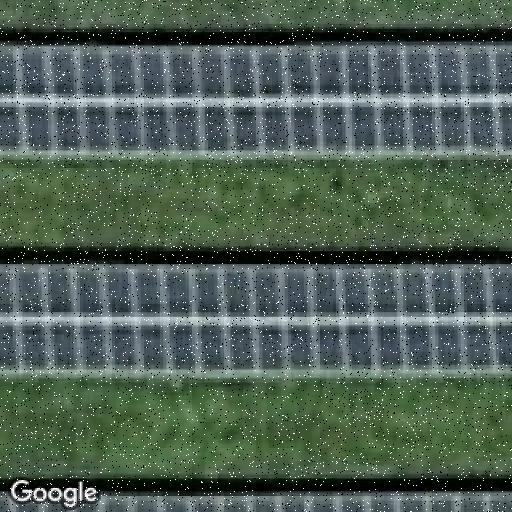solar-panel: (0, 38, 512, 164), (0, 261, 512, 384), (0, 486, 512, 512)
